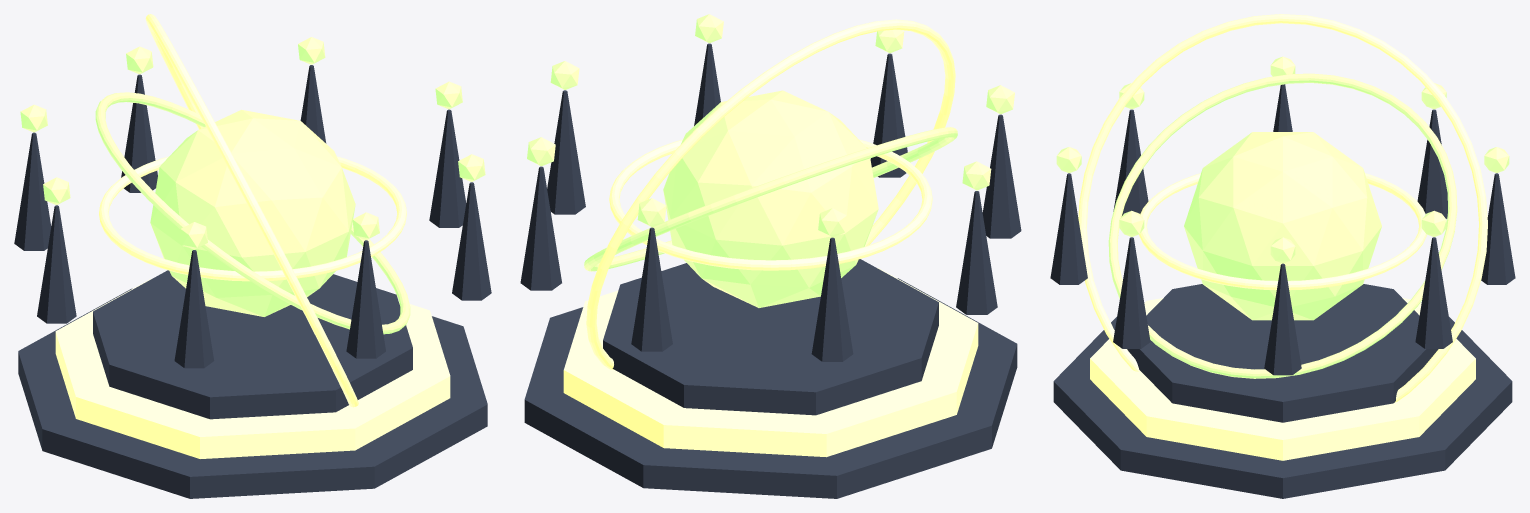
Rendered from gpu-blender-v31.glb.
3 views of the same model, side by side, from view 1: azimuth 30°, elevation 25°; view 2: azimuth 150°, elevation 25°; view 3: azimuth 270°, elevation 25° (orthographic). The views are drawn at different scales.
Parts seen in each view (by area): view 1: Cylinder.002, SovereignCore_mcp-lens, Cylinder, Cylinder.001, Torus.001, Torus.002, Torus, Cone.005, Cone.007, Cone.004, Cone.006, Cone (+11 smaller); view 2: Cylinder.002, SovereignCore_mcp-lens, Cylinder, Cylinder.001, Torus.002, Torus.001, Torus, Cone.001, Cone.003, Cone.002, Cone.004, Cone (+11 smaller); view 3: SovereignCore_mcp-lens, Cylinder.002, Cylinder, Cylinder.001, Torus.002, Torus.001, Torus, Cone, Cone.001, Cone.007, Cone.006, Cone.002 (+8 smaller).
Part boxes in pixels (left/top/right/bottom): Cylinder.002: left=93, top=270, right=412, bottom=419; SovereignCore_mcp-lens: left=150, top=109, right=355, bottom=316; Cylinder: left=18, top=288, right=487, bottom=498; Cylinder.001: left=55, top=278, right=450, bottom=458; Torus.001: left=95, top=92, right=410, bottom=334; Torus.002: left=145, top=14, right=358, bottom=407; Torus: left=99, top=156, right=406, bottom=281; Cone.005: left=174, top=250, right=214, bottom=368; Cone.007: left=452, top=182, right=491, bottom=300; Cone.004: left=37, top=205, right=76, bottom=323; Cone.006: left=346, top=240, right=385, bottom=358; Cone: left=429, top=109, right=466, bottom=227; Cylinder.002: left=603, top=259, right=938, bottom=415; SovereignCore_mcp-lens: left=663, top=90, right=878, bottom=307; Cylinder: left=524, top=278, right=1017, bottom=498; Cylinder.001: left=563, top=268, right=978, bottom=457; Torus.002: left=586, top=19, right=955, bottom=369; Torus.001: left=584, top=127, right=957, bottom=271; Torus: left=609, top=139, right=932, bottom=270; Cone.001: left=520, top=166, right=561, bottom=290; Cone.003: left=811, top=237, right=853, bottom=361; Cone.002: left=631, top=227, right=672, bottom=351; Cone.004: left=956, top=191, right=997, bottom=314; Cone: left=547, top=90, right=585, bottom=214; SovereignCore_mcp-lens: left=1184, top=132, right=1381, bottom=320; Cylinder.002: left=1127, top=284, right=1438, bottom=422; Cylinder: left=1053, top=317, right=1512, bottom=498; Cylinder.001: left=1090, top=298, right=1475, bottom=460; Torus.002: left=1078, top=14, right=1487, bottom=402; Torus.001: left=1108, top=73, right=1457, bottom=378; Torus: left=1139, top=173, right=1426, bottom=290; Cone: left=1264, top=263, right=1301, bottom=375; Cone.001: left=1415, top=237, right=1452, bottom=348; Cone.007: left=1113, top=237, right=1150, bottom=348; Cone.006: left=1050, top=173, right=1087, bottom=284; Cone.002: left=1481, top=173, right=1515, bottom=284.
Size of the model in its own units: 4.41 by 3.72 by 4.46.
